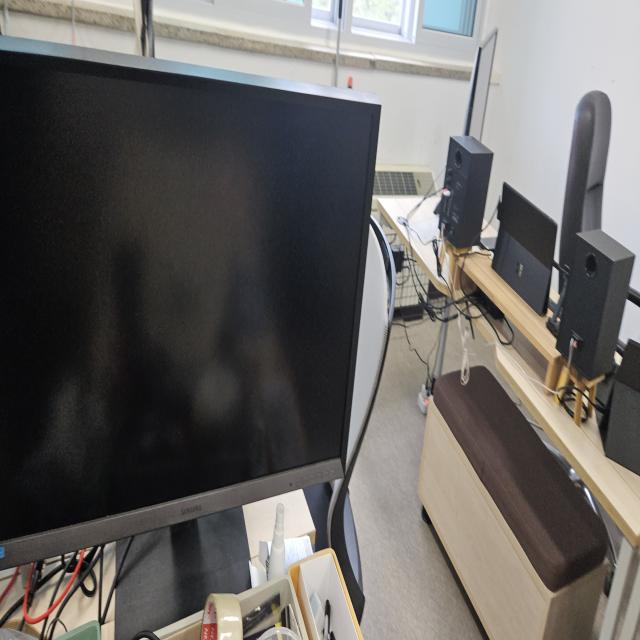Monitor: (1, 33, 383, 570)
